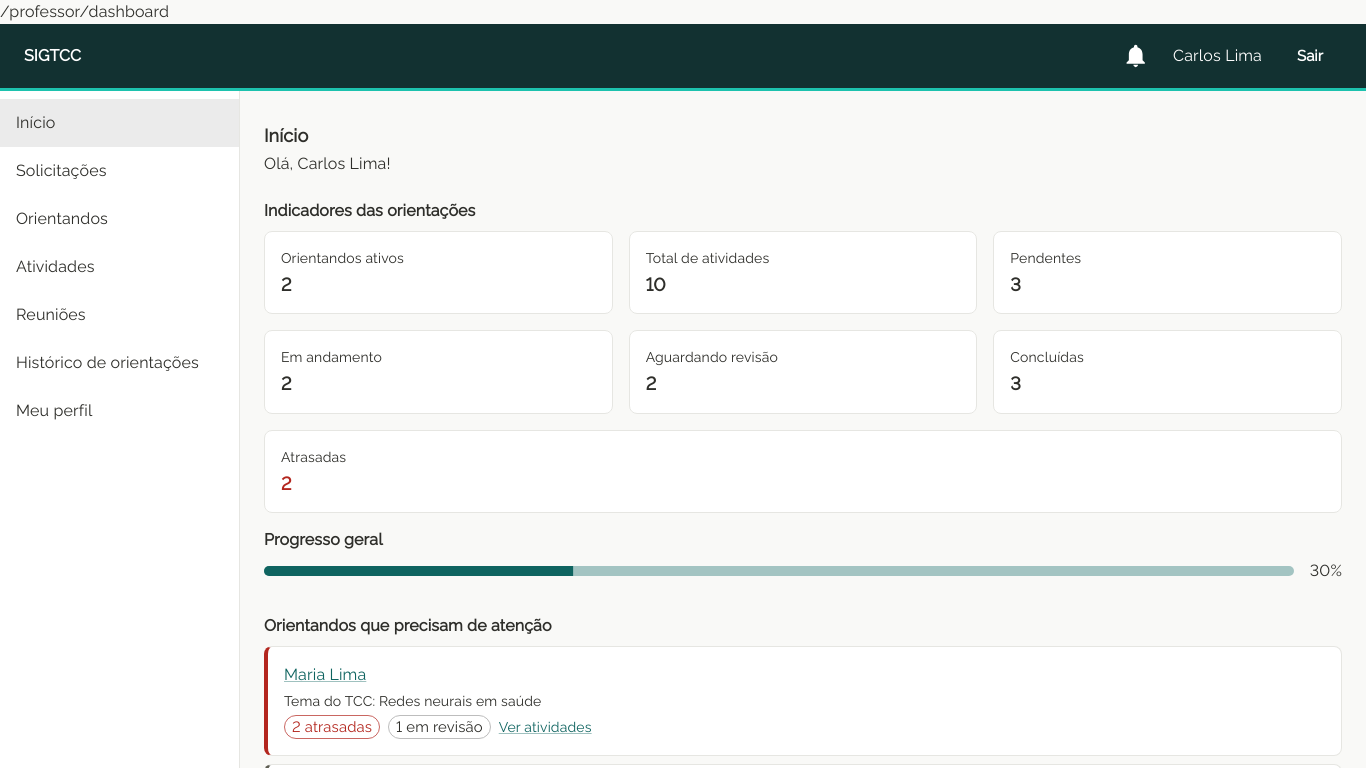
Test case: Dashboard do professor: com orientações ativas › os links do perfil e das atividades de um orientando levam às telas existentes
Click the link "Ver atividades". click: [545, 727]
box: [499, 717, 592, 737]
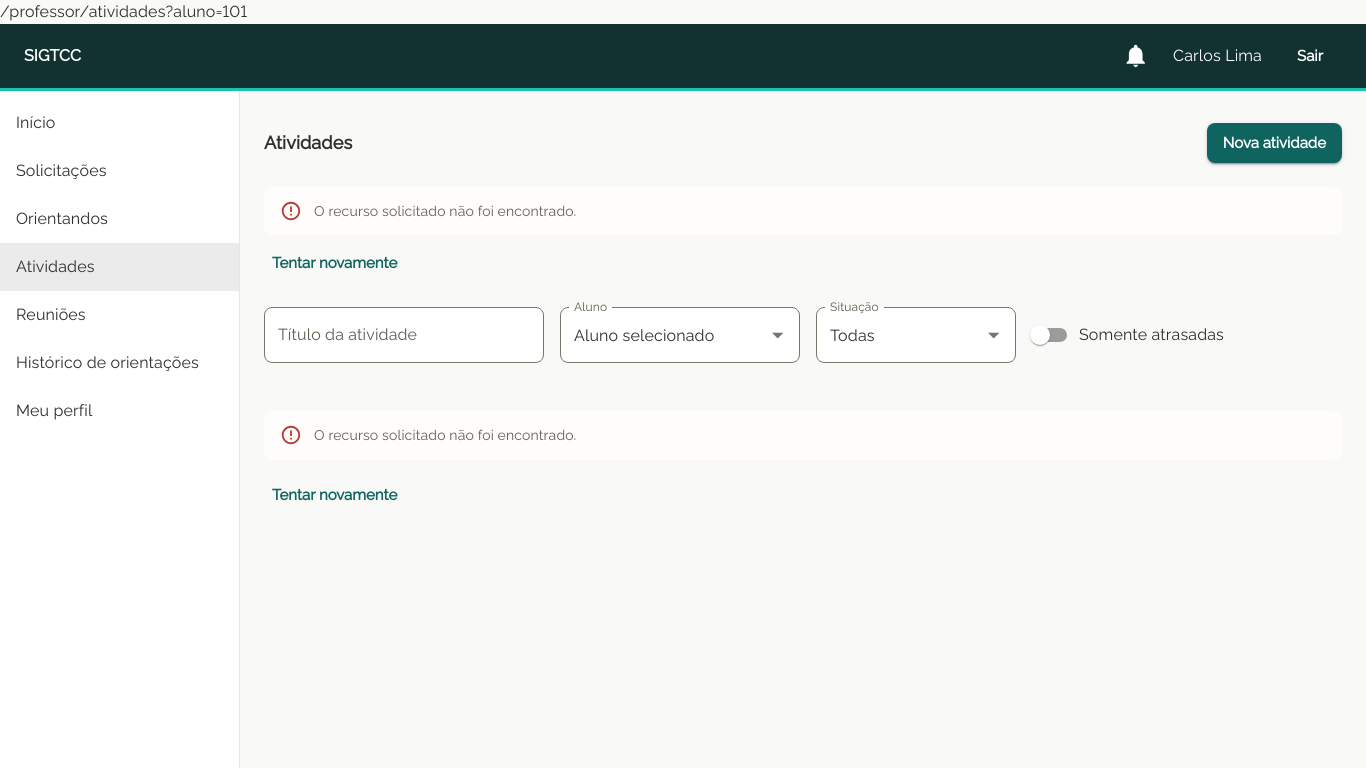
Result: the text with test id "location" reads "/professor/atividades?aluno=101" at [0, 2, 247, 21]
Result: the heading "Atividades" is shown at [264, 130, 352, 156]
